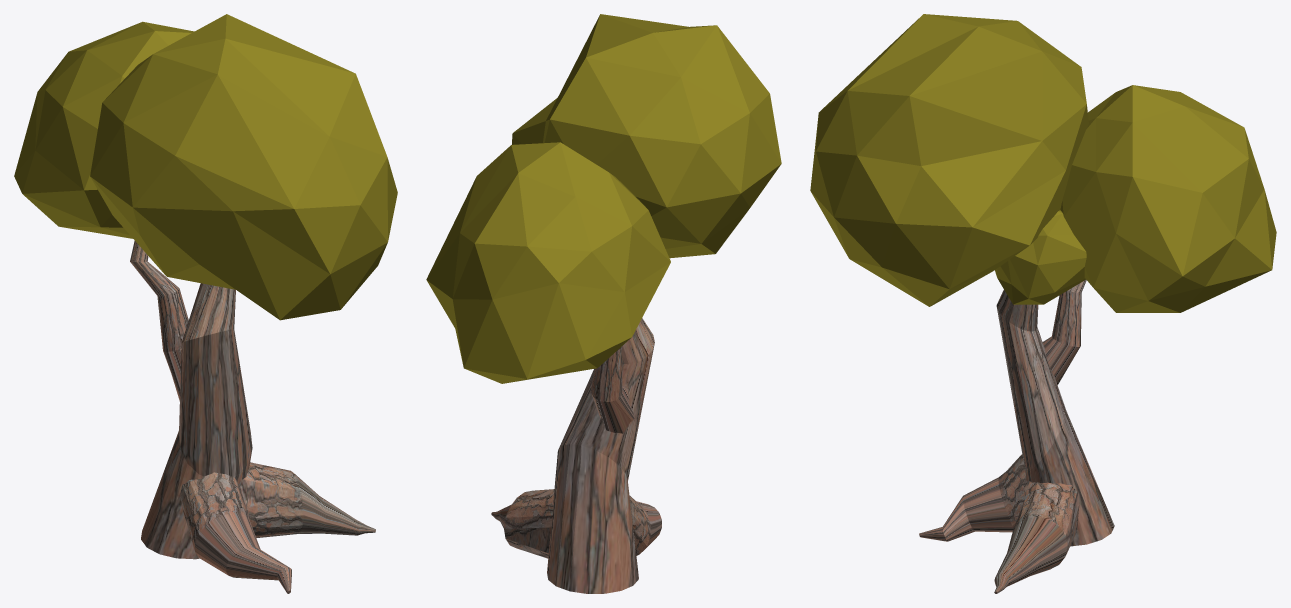
Rendered from ExportedBlenderFBXFile.fbx.
3 views of the same model, side by side, from view 1: azimuth 30°, elevation 25°; view 2: azimuth 150°, elevation 25°; view 3: azimuth 270°, elevation 25° (orthographic). The views are drawn at different scales.
Visible parts, largest first — view 1: Икосфера, Цилиндр; view 2: Икосфера, Цилиндр; view 3: Икосфера, Цилиндр.
Boxes of the visible parts, x1=… form: Икосфера: x1=14, y1=14, x2=397, y2=320; Цилиндр: x1=130, y1=241, x2=375, y2=593; Икосфера: x1=426, y1=14, x2=781, y2=383; Цилиндр: x1=491, y1=318, x2=661, y2=593; Икосфера: x1=810, y1=14, x2=1276, y2=312; Цилиндр: x1=919, y1=280, x2=1114, y2=593.
Size of the model in its own units: 2.09 by 3.94 by 3.34.
